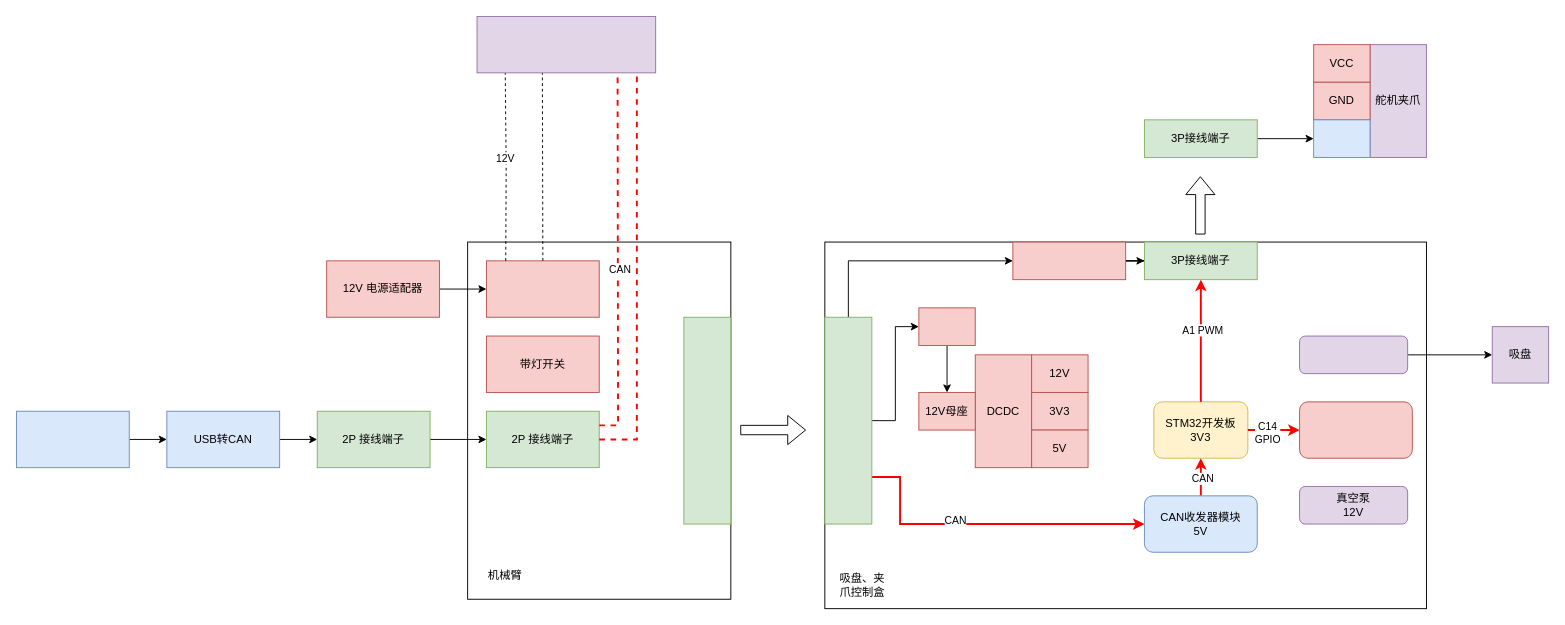
This 1565x625 diagram has some shape labels left out. Here are the shapes that lost their labels. From the top down, the centre of each, then its label:
At (x=566, y=44): "42驱动".
At (x=1341, y=138): "PWM".
At (x=1069, y=260): "12V 转7.4V DCDC 输出端GND 接总地".
At (x=542, y=288): "12V 电源母座".
At (x=946, y=326): "12V公头".
At (x=1353, y=354): "三通电磁阀 12V".
At (x=72, y=439): "电脑上位机".
At (x=707, y=420): "4P接线端子".
At (x=848, y=420): "4P接线".
At (x=1355, y=429): "继电器".
